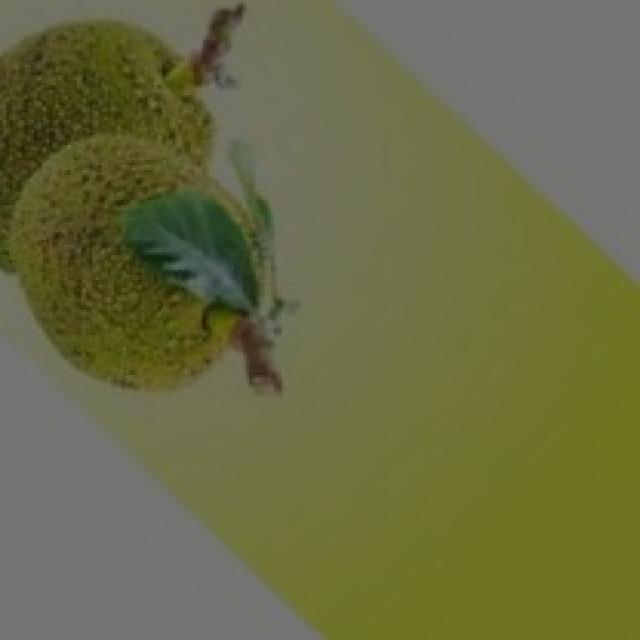Fruit: (0, 0, 311, 420)
